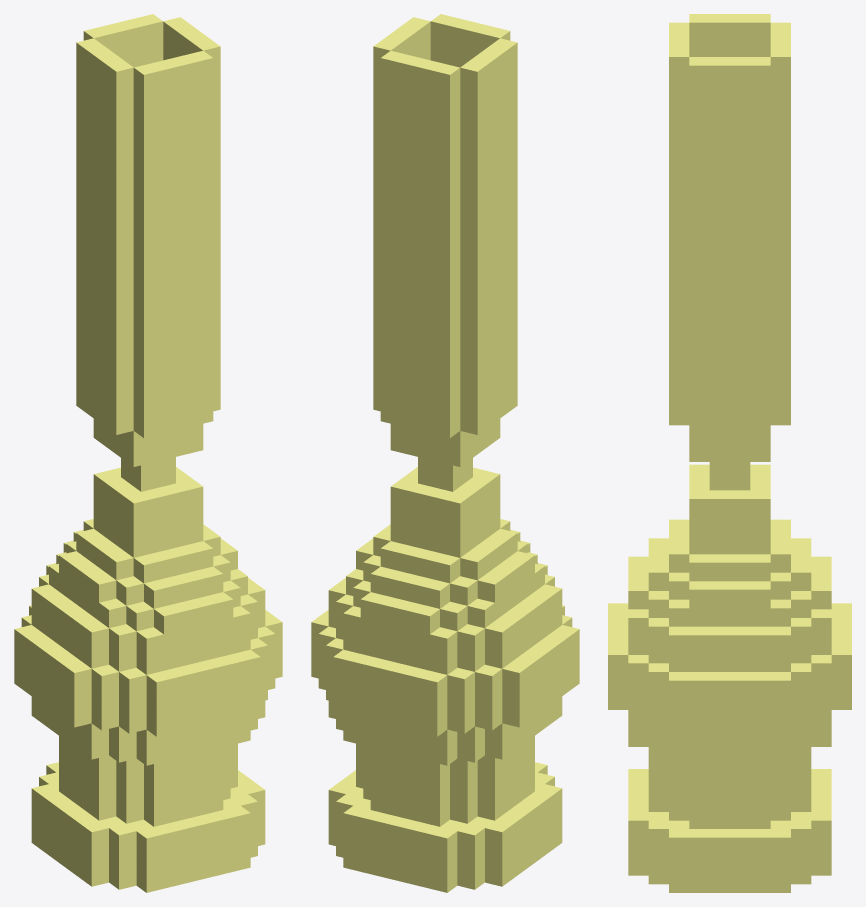
The model's file is lampe_mural-0.obj.
3 views of the same model, side by side, from view 1: azimuth 30°, elevation 25°; view 2: azimuth 150°, elevation 25°; view 3: azimuth 270°, elevation 25° (orthographic).
Bounding box in the file's own units: 1.2 × 4.4 × 1.2.
1 material, 1 textured.
